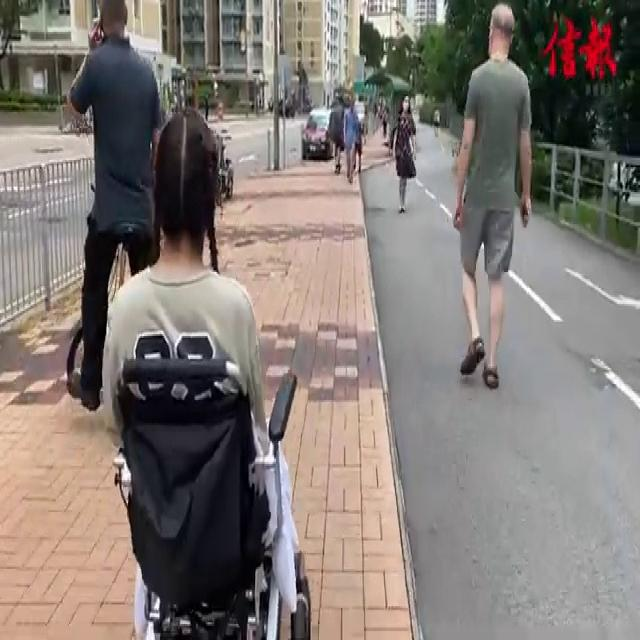wheelchairs: (99, 333, 322, 640)
